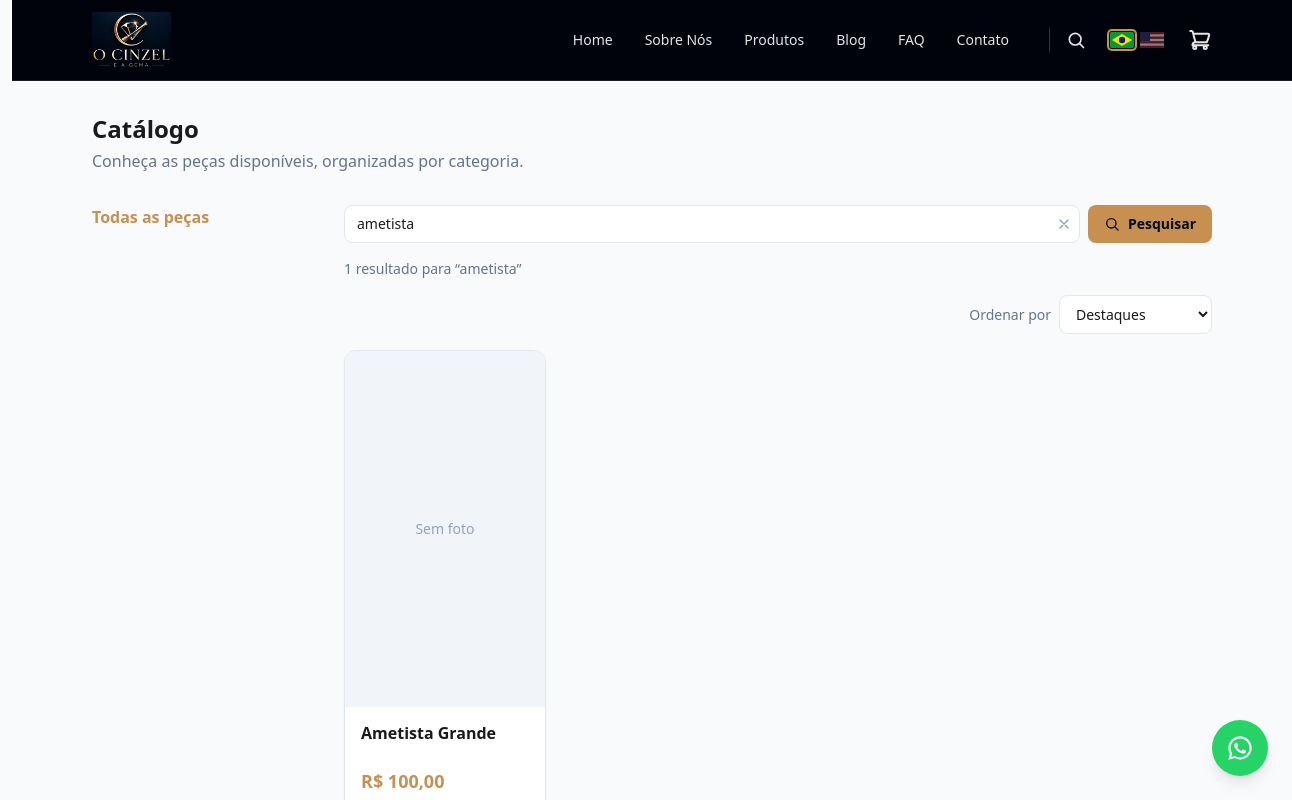
Test case: Catalog — busca › esvaziar o campo (ex.: apagar tudo) com q ativo remove o q da URL e recarrega a lista
Check: the heading "Ametista Grande" is shown, box [361,722,496,744]
Clear the field named "Pesquisar peças" at [712, 224], box [344,205,1080,243]
(page scrolled)
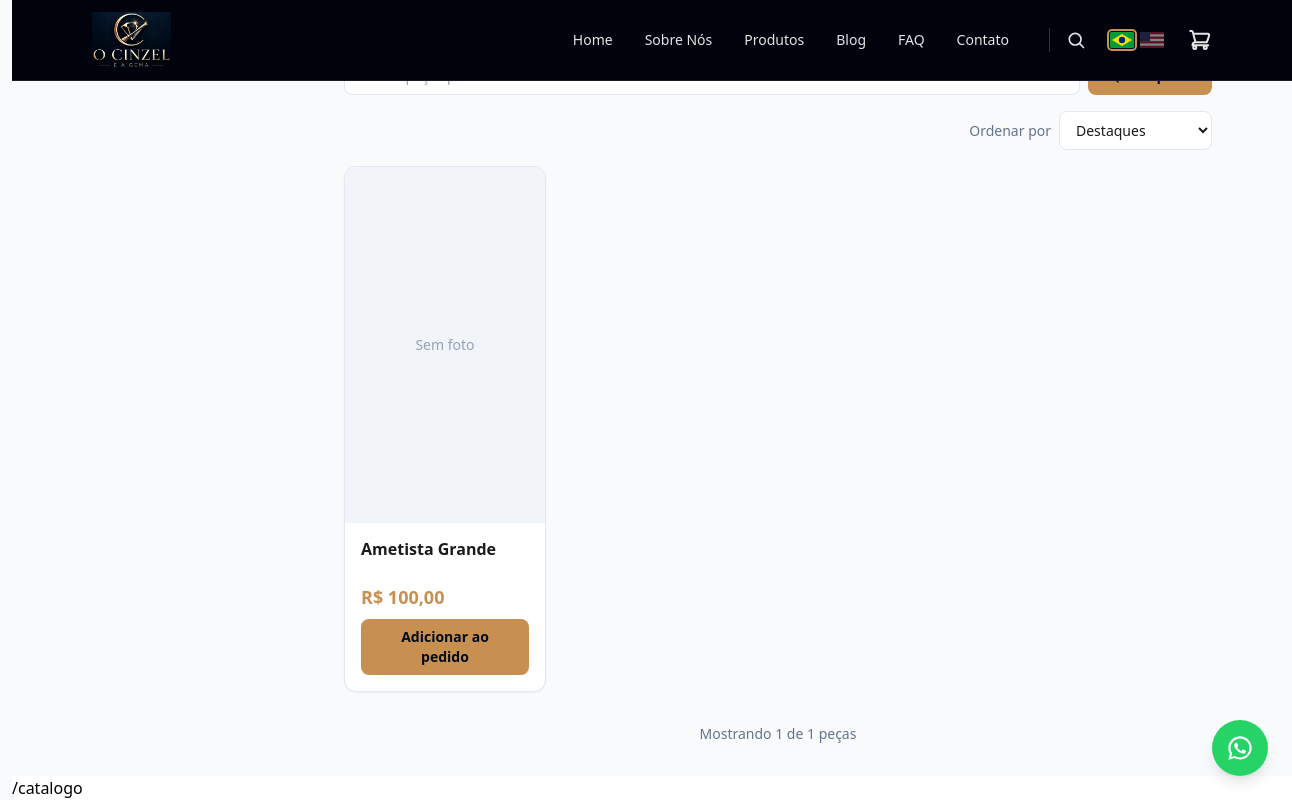
Check: the text with test id "location-display" reads "/catalogo", box [12,776,83,798]
Check: the text with test id "location-display" no longer shows "q=", box [12,776,83,798]
